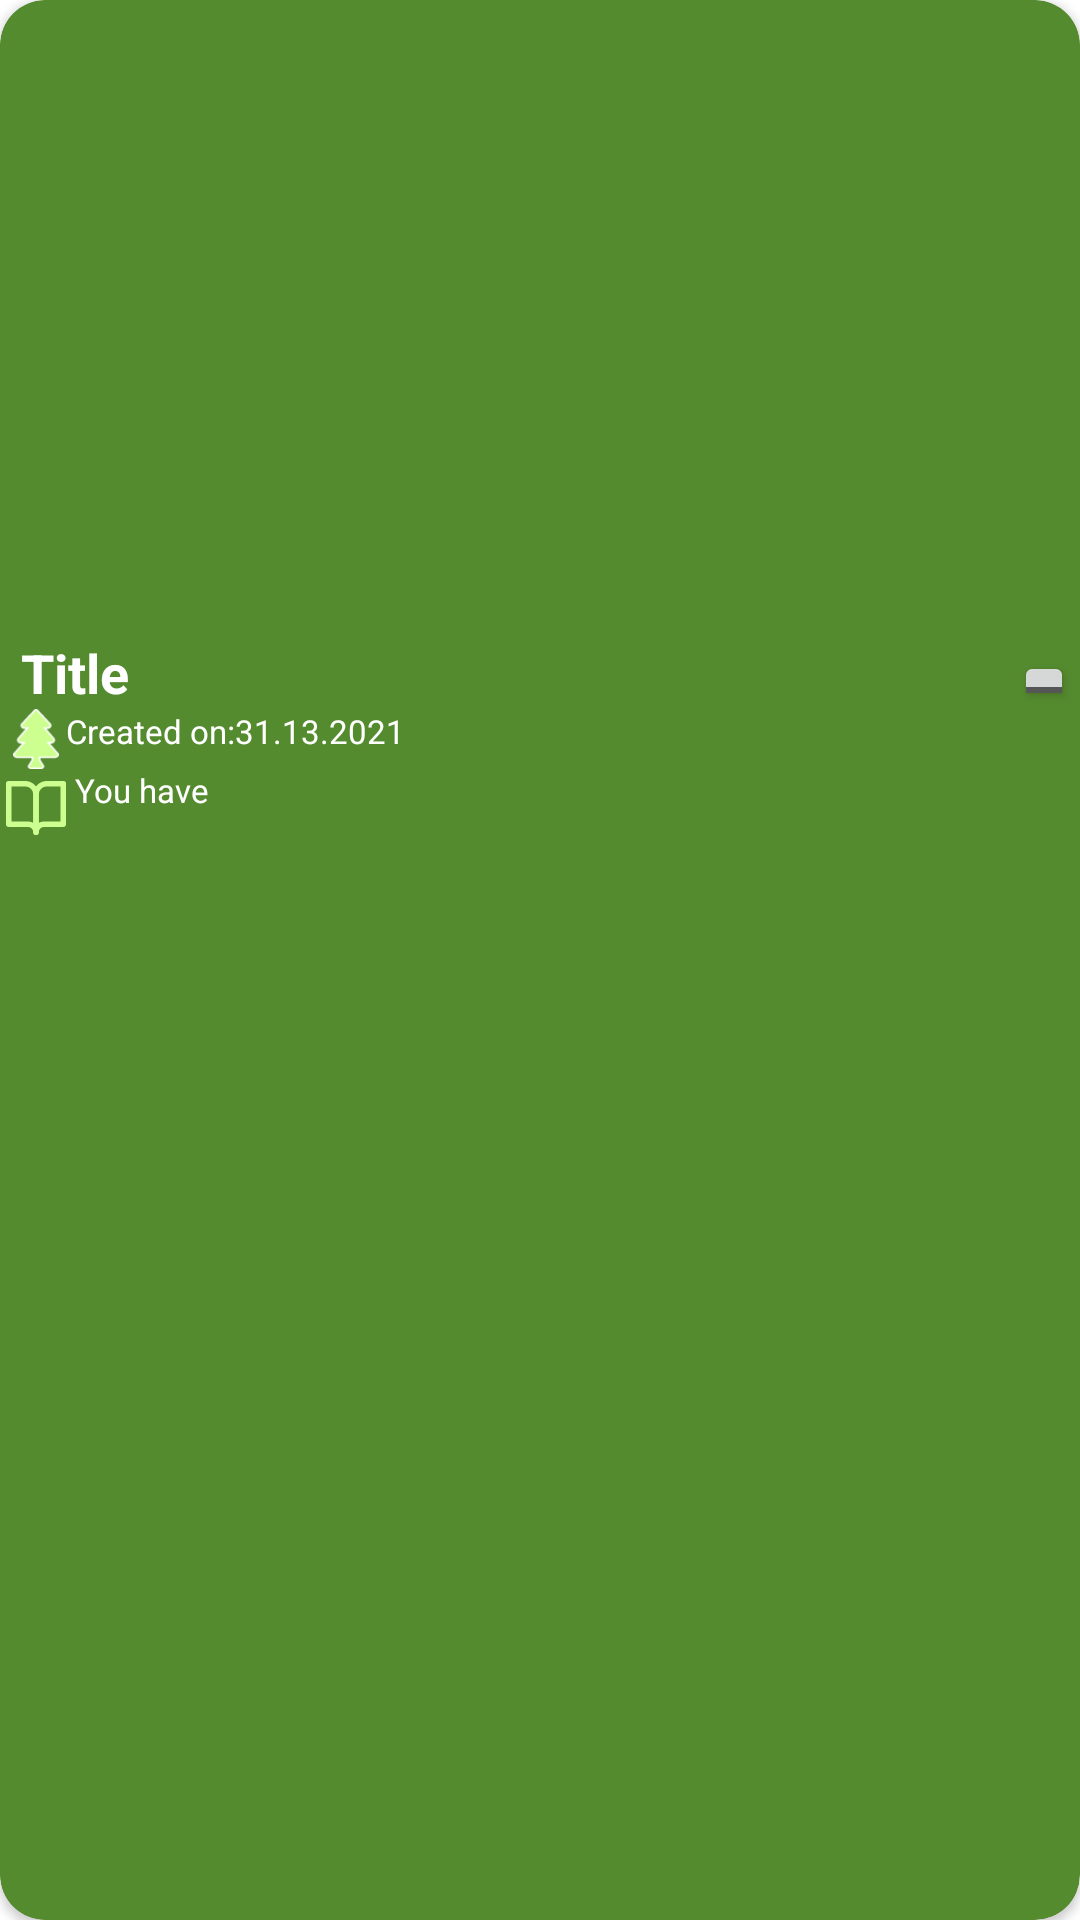

Icons on this 1080x1920 Android screen, each with the point to tap as (x,y):
book: (36,808)
tree: (36,739)
